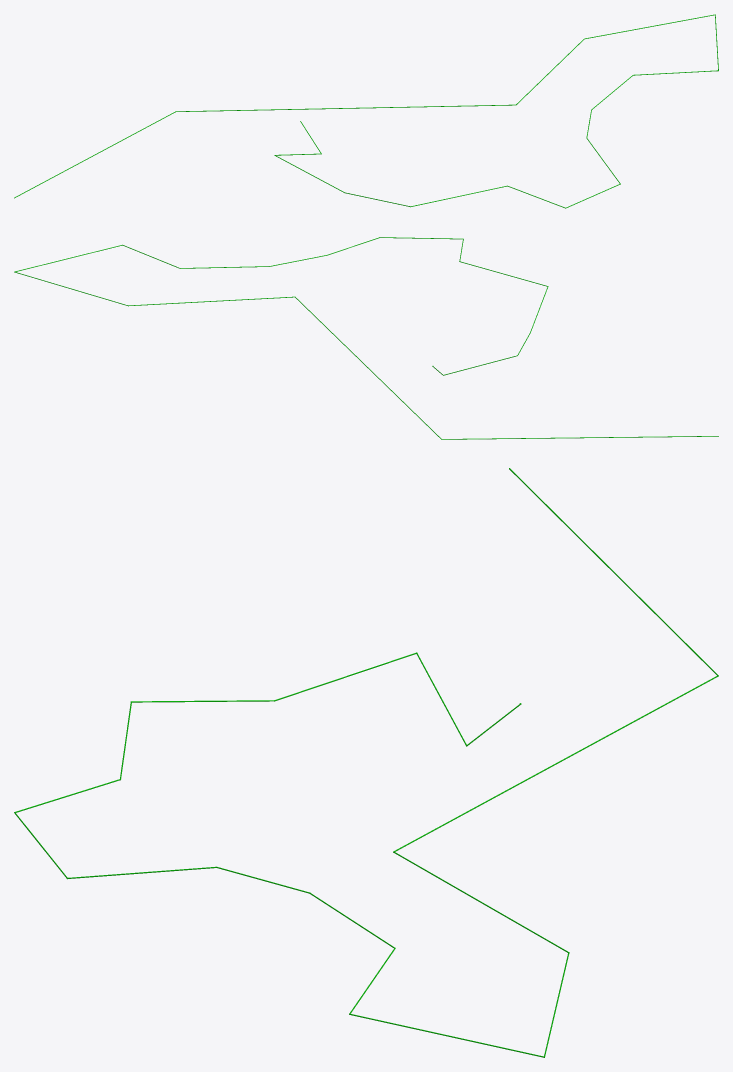
File: waypoints_complete.glb
3 renders of one model, top to bottom at view 1: azimuth 30°, elevation 25°; view 2: azimuth 150°, elevation 25°; view 3: azimuth 270°, elevation 25°, orthographic. The views are drawn at different scales.
Visible parts, largest first — view 1: Renderer Node; view 2: Renderer Node; view 3: Renderer Node.
Boxes of the visible parts, left/top/right/bottom form: Renderer Node: left=14, top=14, right=718, bottom=208; Renderer Node: left=14, top=237, right=718, bottom=439; Renderer Node: left=14, top=468, right=718, bottom=1057.
Bounding box in the file's own units: 66453 × 2247 × 33395.
